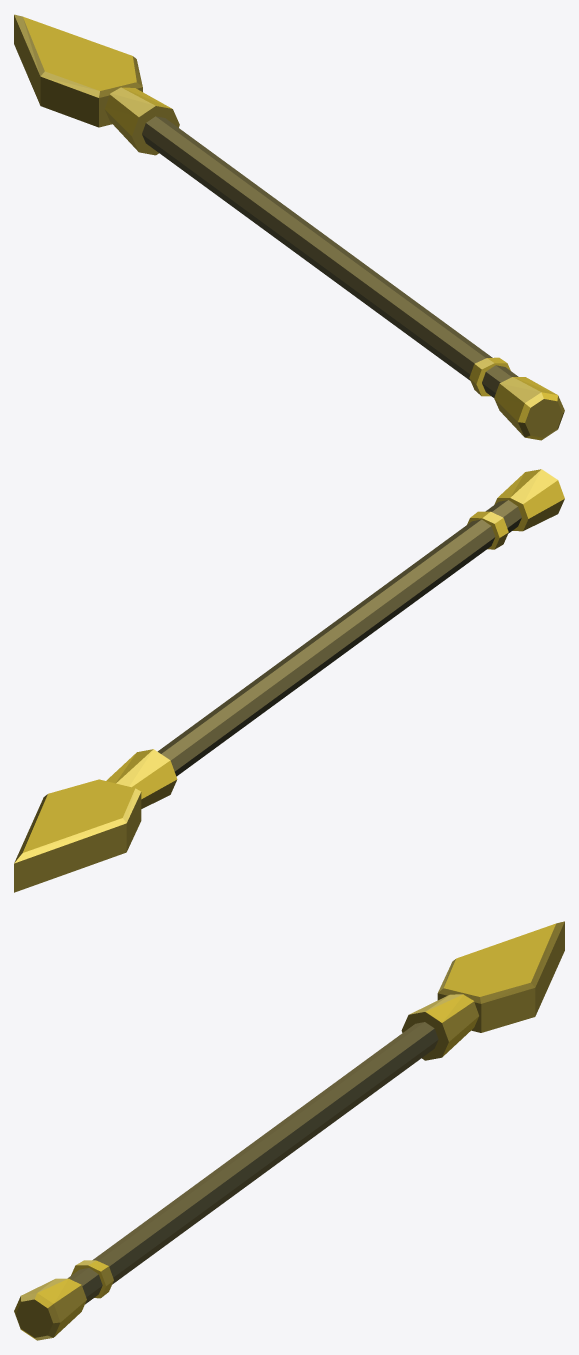
Rendered from gold_spear.fbx.
3 renders of one model, top to bottom at view 1: azimuth 30°, elevation 25°; view 2: azimuth 150°, elevation 25°; view 3: azimuth 330°, elevation 25°, orthographic.
Visible parts, largest first — view 1: gold_spear; view 2: gold_spear; view 3: gold_spear.
Boxes of the visible parts, <box> form: gold_spear: <box>14,14,564,440</box>; gold_spear: <box>14,469,564,892</box>; gold_spear: <box>14,921,564,1340</box>.
Bounding box in the file's own units: 0.3067 × 0.1612 × 3.14.
1 material, 1 textured.
